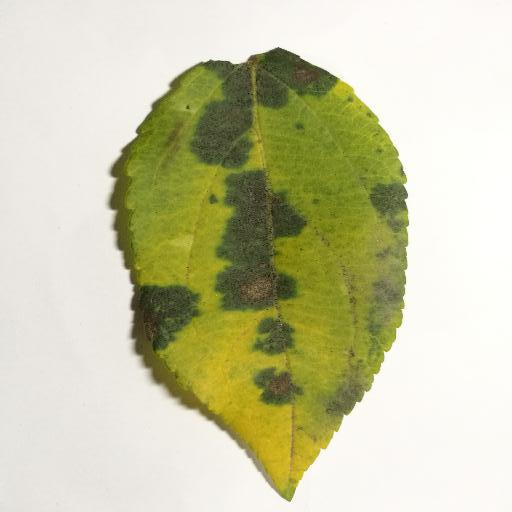Brown_Spot: (136, 119, 335, 423)
